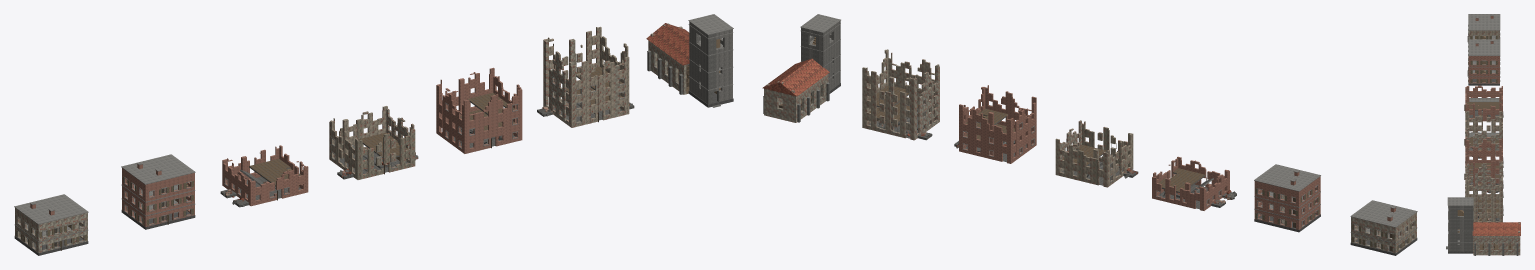
The model's file is buildings_game.glb.
The picture shows the model from 3 angles, left to right: view 1: azimuth 30°, elevation 25°; view 2: azimuth 150°, elevation 25°; view 3: azimuth 270°, elevation 25°; orthographic projection. The views are drawn at different scales.
Parts seen in each view (by area): view 1: vis_plaster_a.002, vis_brick_a.003, vis_stone_a, vis_brick_b.003, vis_plaster_a.001, vis_plaster_c.003, vis_cap.001, vis_brick_a.001, vis_cap, vis_plaster_b, vis_plaster_c, vis_stone_b (+13 smaller); view 2: vis_plaster_a.002, vis_brick_b.003, vis_brick_b.001, vis_plaster_a.001, vis_cap.001, vis_plaster_c.004, vis_plaster_c.003, vis_cap, vis_roof_tile, vis_stone_a, vis_brick_a.003, vis_brick_a.002 (+10 smaller); view 3: vis_plaster_a.002, vis_stone_b, vis_plaster_c.004, vis_cap.001, vis_roof_tile, vis_brick_b.001, vis_brick_b.003, vis_cap, vis_plaster_c.003, vis_brick_c.001, vis_plaster_a.001, vis_cap.006 (+21 smaller).
Part boxes in pixels (box(x1,y1,x2,y2)): vis_plaster_a.002: box(543, 26, 629, 127); vis_brick_a.003: box(463, 76, 522, 153); vis_stone_a: box(689, 22, 732, 102); vis_brick_b.003: box(436, 67, 507, 152); vis_plaster_a.001: box(329, 106, 411, 179); vis_plaster_c.003: box(544, 39, 619, 126); vis_cap.001: box(121, 154, 195, 225); vis_brick_a.001: box(137, 164, 194, 226); vis_cap: box(14, 194, 88, 251); vis_plaster_b: box(340, 118, 415, 179); vis_plaster_c: box(15, 208, 87, 253); vis_stone_b: box(647, 33, 722, 107); vis_plaster_a.002: box(862, 49, 939, 140); vis_brick_b.003: box(959, 102, 1035, 163); vis_brick_b.001: box(1254, 177, 1319, 229); vis_plaster_a.001: box(1055, 121, 1132, 187); vis_cap.001: box(1254, 164, 1320, 227); vis_plaster_c.004: box(764, 74, 828, 122); vis_plaster_c.003: box(888, 64, 939, 139); vis_cap: box(1350, 200, 1417, 250); vis_roof_tile: box(762, 58, 829, 96); vis_stone_a: box(808, 22, 838, 94); vis_brick_a.003: box(963, 85, 1036, 148); vis_brick_a.002: box(1152, 160, 1204, 210); vis_plaster_a.002: box(1465, 161, 1502, 222); vis_stone_b: box(1446, 205, 1518, 255); vis_plaster_c.004: box(1473, 222, 1520, 255); vis_cap.001: box(1468, 39, 1500, 83); vis_roof_tile: box(1472, 222, 1520, 235); vis_brick_b.001: box(1470, 56, 1499, 83); vis_brick_b.003: box(1466, 137, 1502, 162); vis_cap: box(1468, 14, 1500, 47); vis_plaster_c.003: box(1466, 161, 1501, 196); vis_brick_c.001: box(1465, 85, 1501, 121); vis_plaster_a.001: box(1465, 111, 1502, 138); vis_cap.006: box(1447, 197, 1518, 250).
Size of the model in its own units: 167 by 17.39 by 23.9.
Materials: 21 (21 with a texture image).
